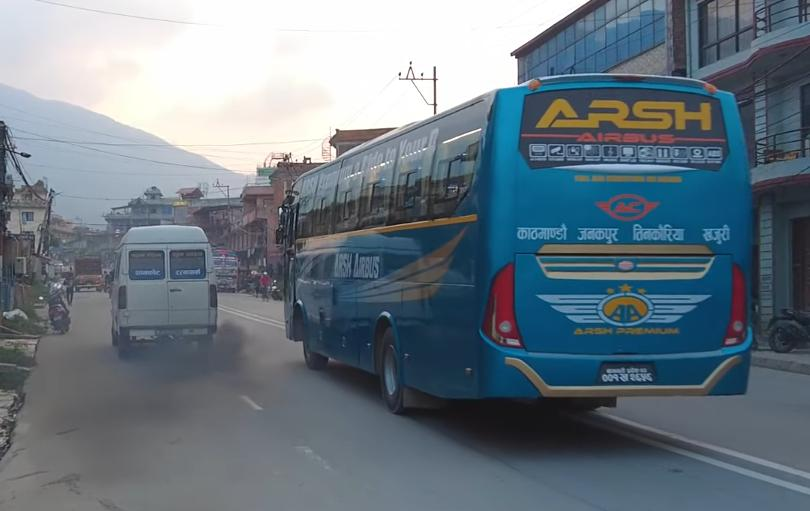bus: (273, 63, 756, 400)
micro_bus: (103, 222, 222, 356)
